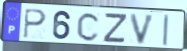6: (52, 10, 73, 41)
C: (76, 12, 102, 43)
I: (162, 14, 170, 48)
P: (23, 8, 48, 40)
V: (129, 13, 157, 46)
Z: (102, 13, 130, 44)
